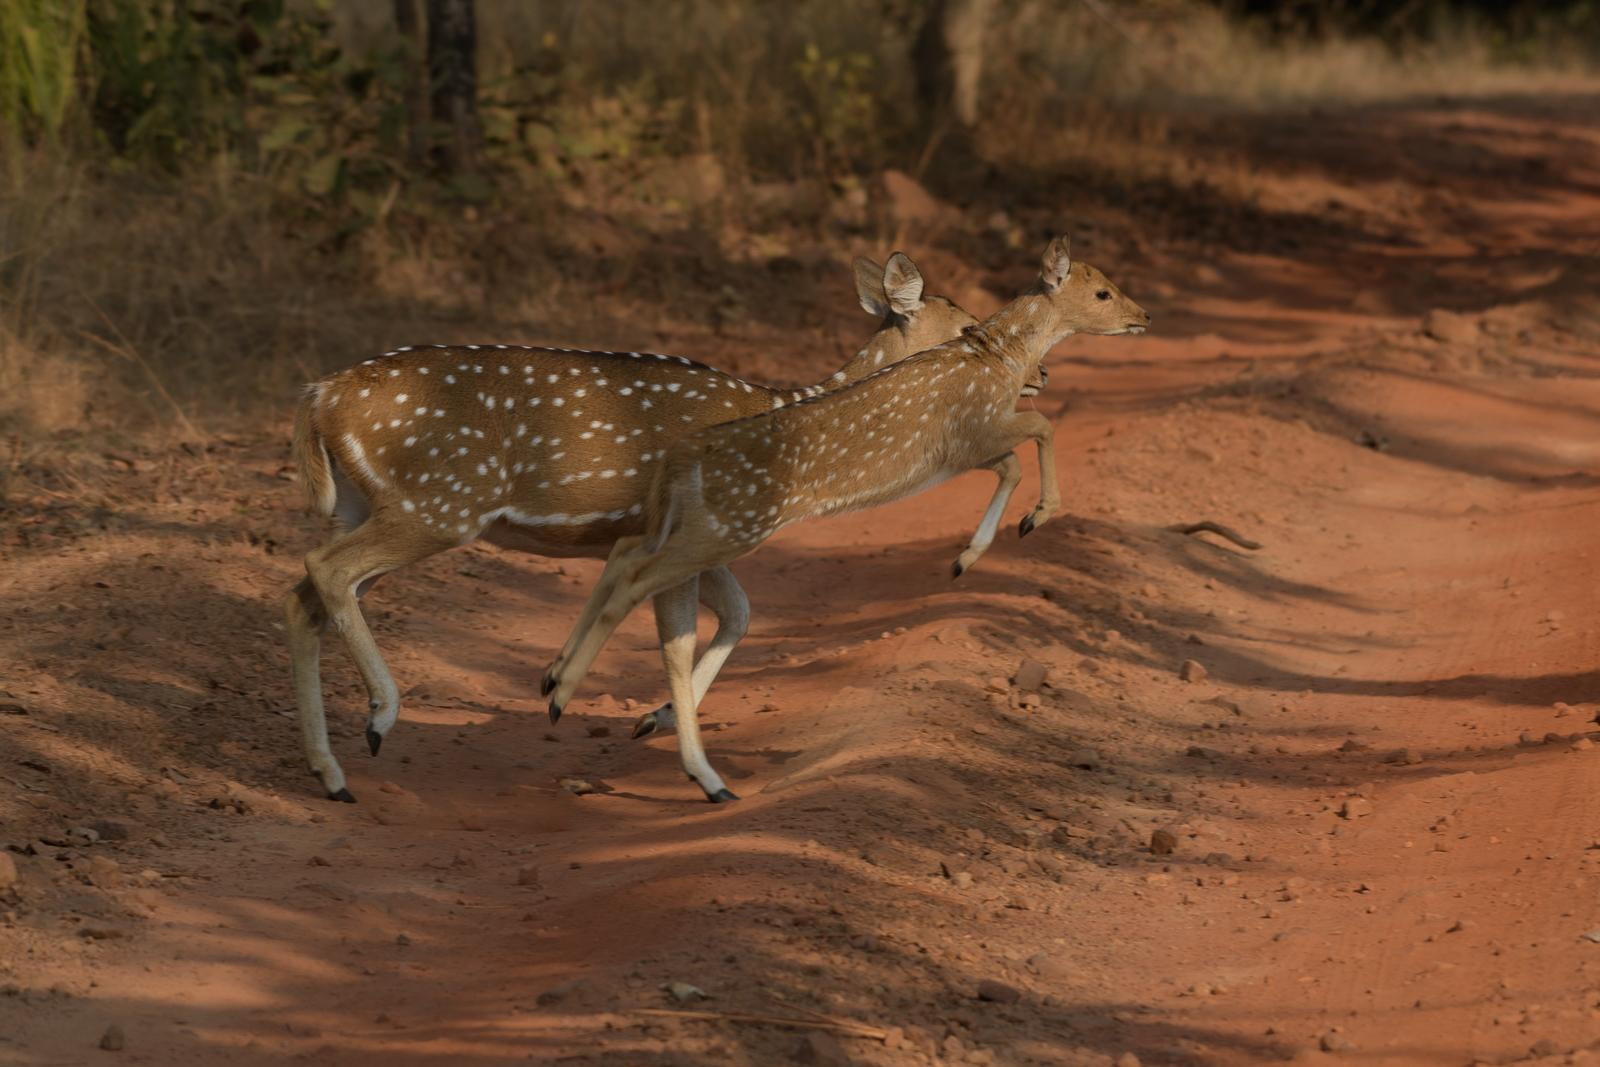Deer: (286, 252, 976, 801), (540, 238, 1148, 722)
